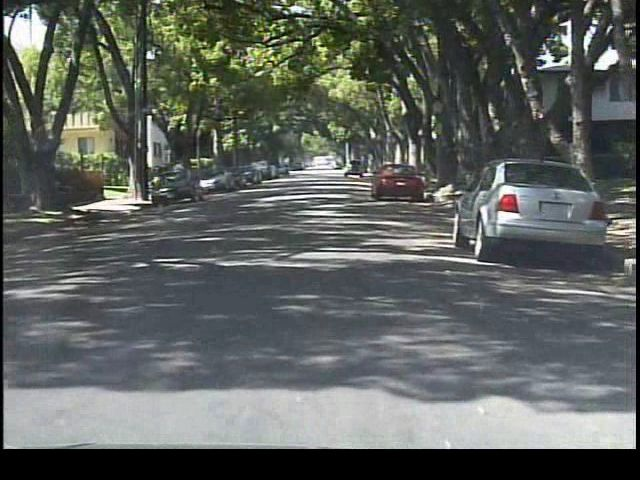person: (170, 159, 189, 194)
